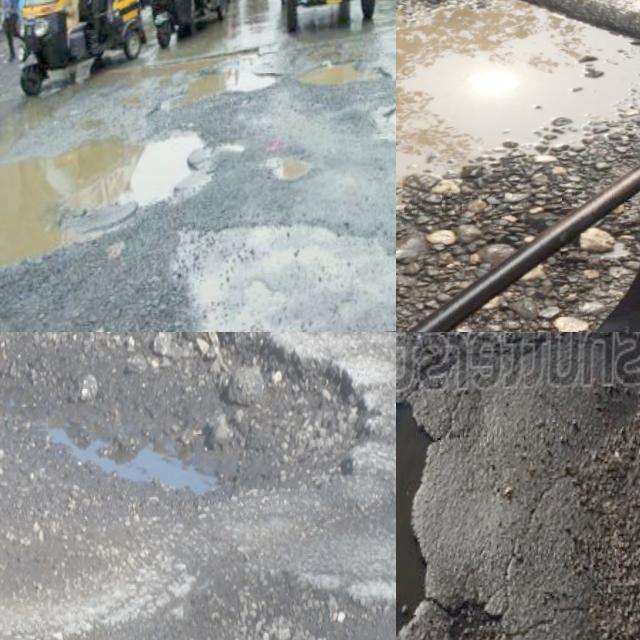Potholes: (0, 332, 360, 568), (396, 0, 640, 267), (0, 24, 182, 326), (396, 338, 484, 640), (177, 222, 396, 332), (118, 25, 291, 128), (294, 50, 396, 156), (241, 113, 345, 212)
